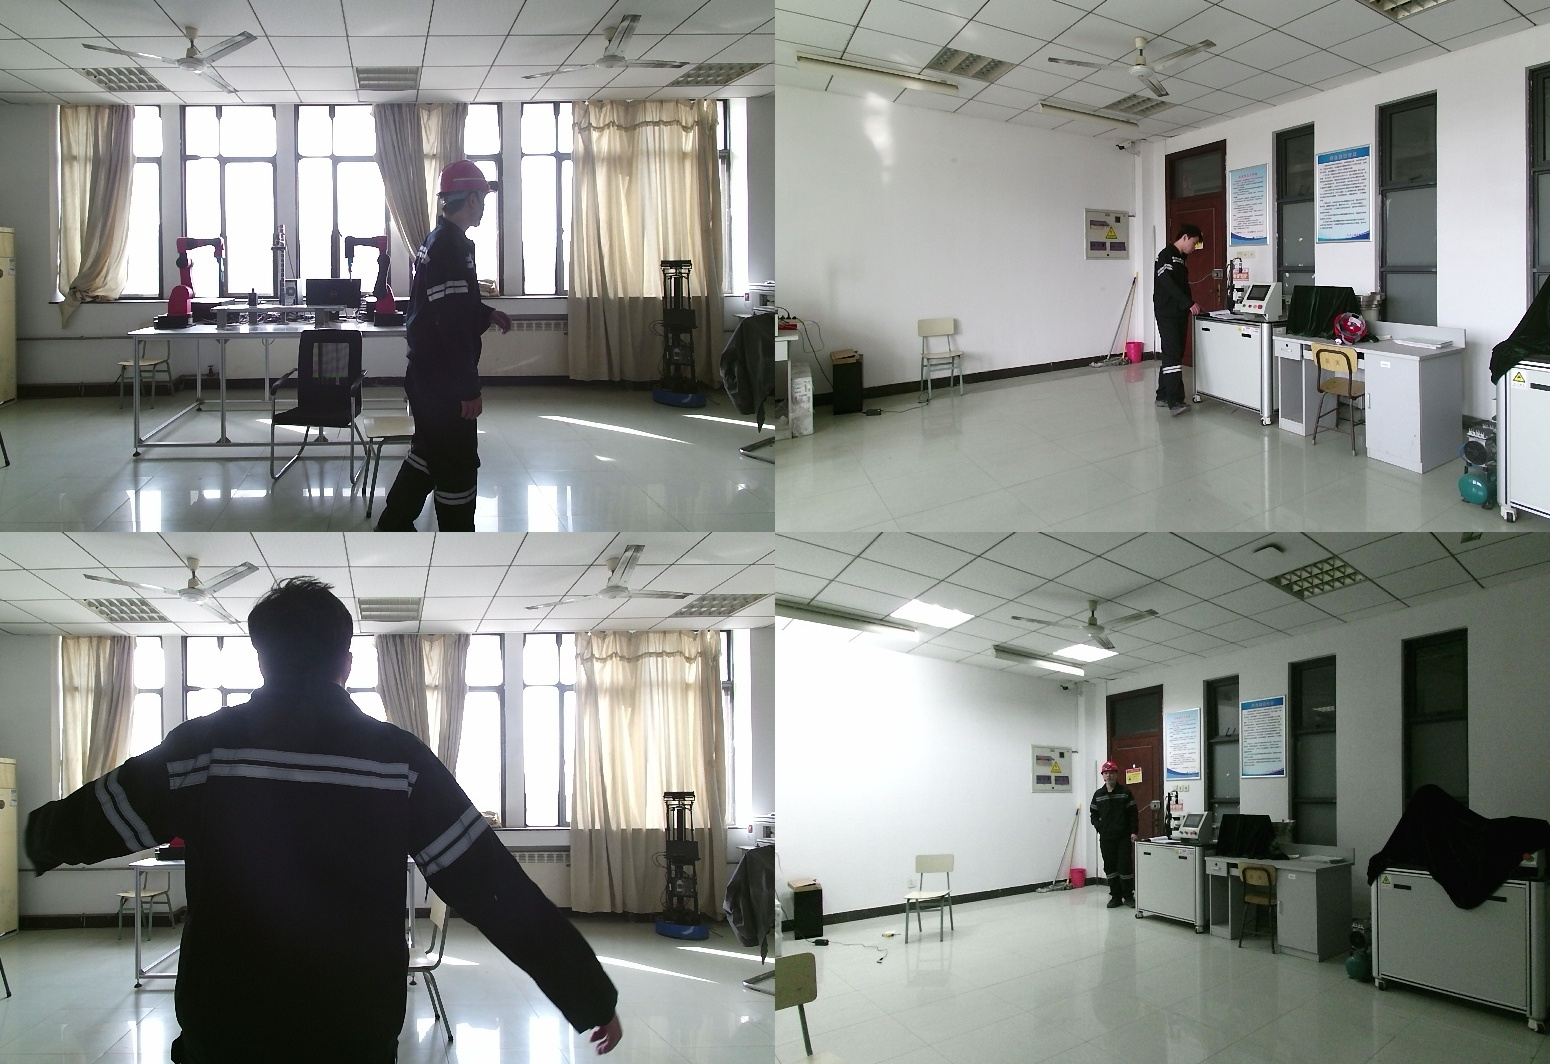person: (28, 583, 618, 1064), (382, 161, 525, 532), (1147, 230, 1211, 420), (1089, 762, 1140, 911)
